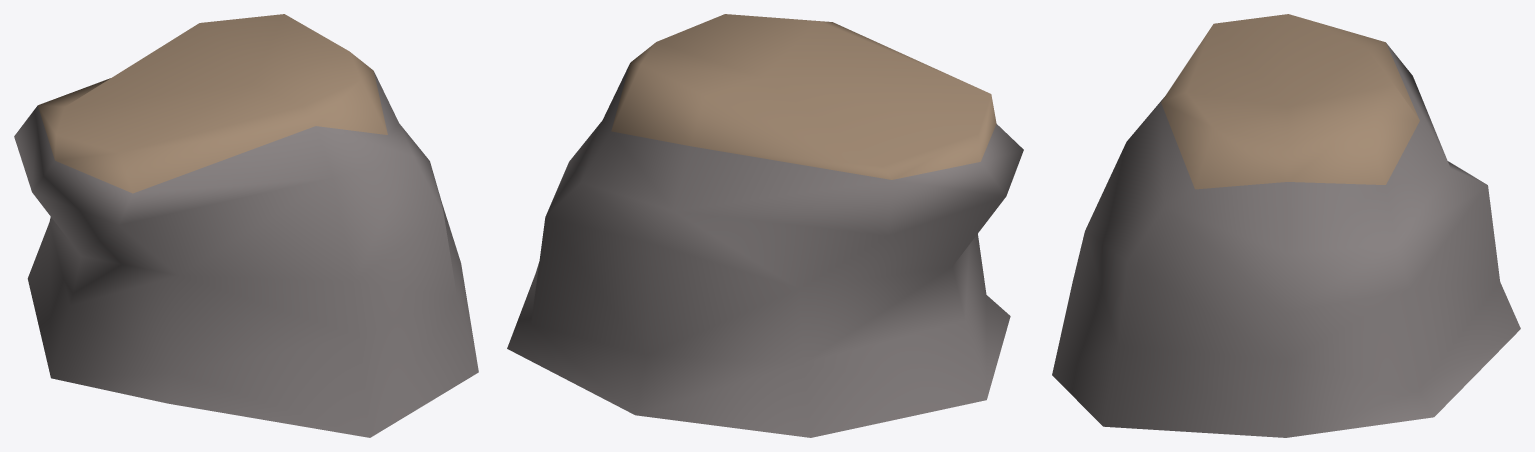
The model's file is Berg_12.fbx.
3 views of the same model, side by side, from view 1: azimuth 30°, elevation 25°; view 2: azimuth 150°, elevation 25°; view 3: azimuth 270°, elevation 25° (orthographic). The views are drawn at different scales.
Parts seen in each view (by area): view 1: Berg_12; view 2: Berg_12; view 3: Berg_12.
Part boxes in pixels (x1,y1,x2,y2): Berg_12: [14, 14, 478, 437]; Berg_12: [507, 14, 1023, 437]; Berg_12: [1052, 14, 1520, 437].
Size of the model in its own units: 3644 by 2369 by 3446.
